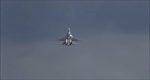maybay_muctieu: (56, 28, 82, 47)
